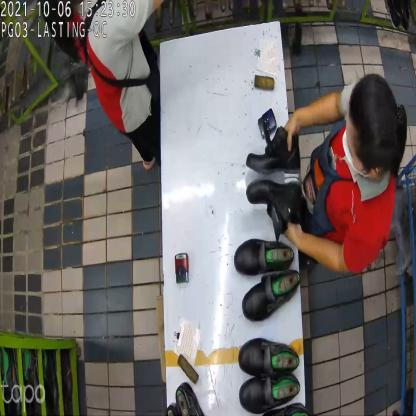shoes: (245, 124, 304, 234), (234, 238, 300, 326), (239, 335, 302, 416)
stamp: (257, 107, 277, 142), (173, 252, 192, 285)
